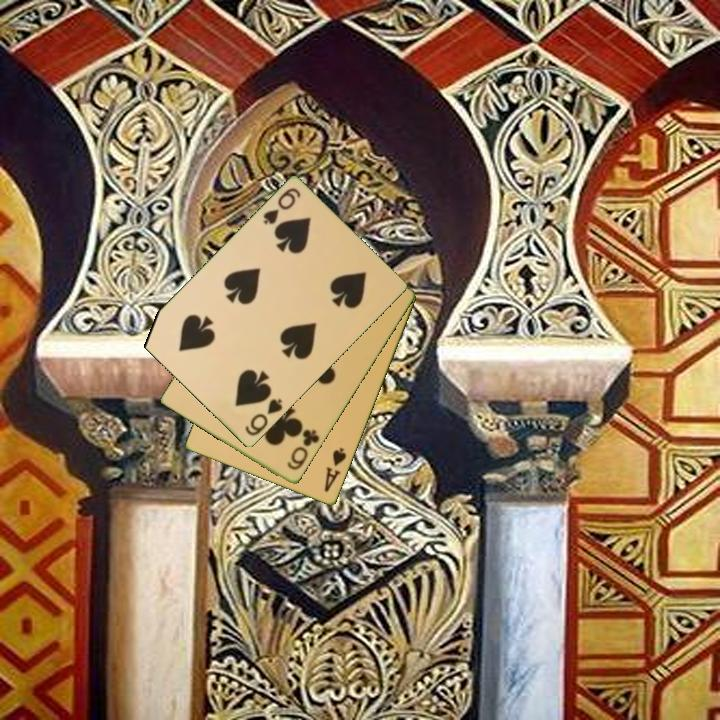6c: (284, 426, 323, 473)
6s: (242, 395, 285, 439), (259, 185, 303, 228)
As: (321, 444, 349, 495)
